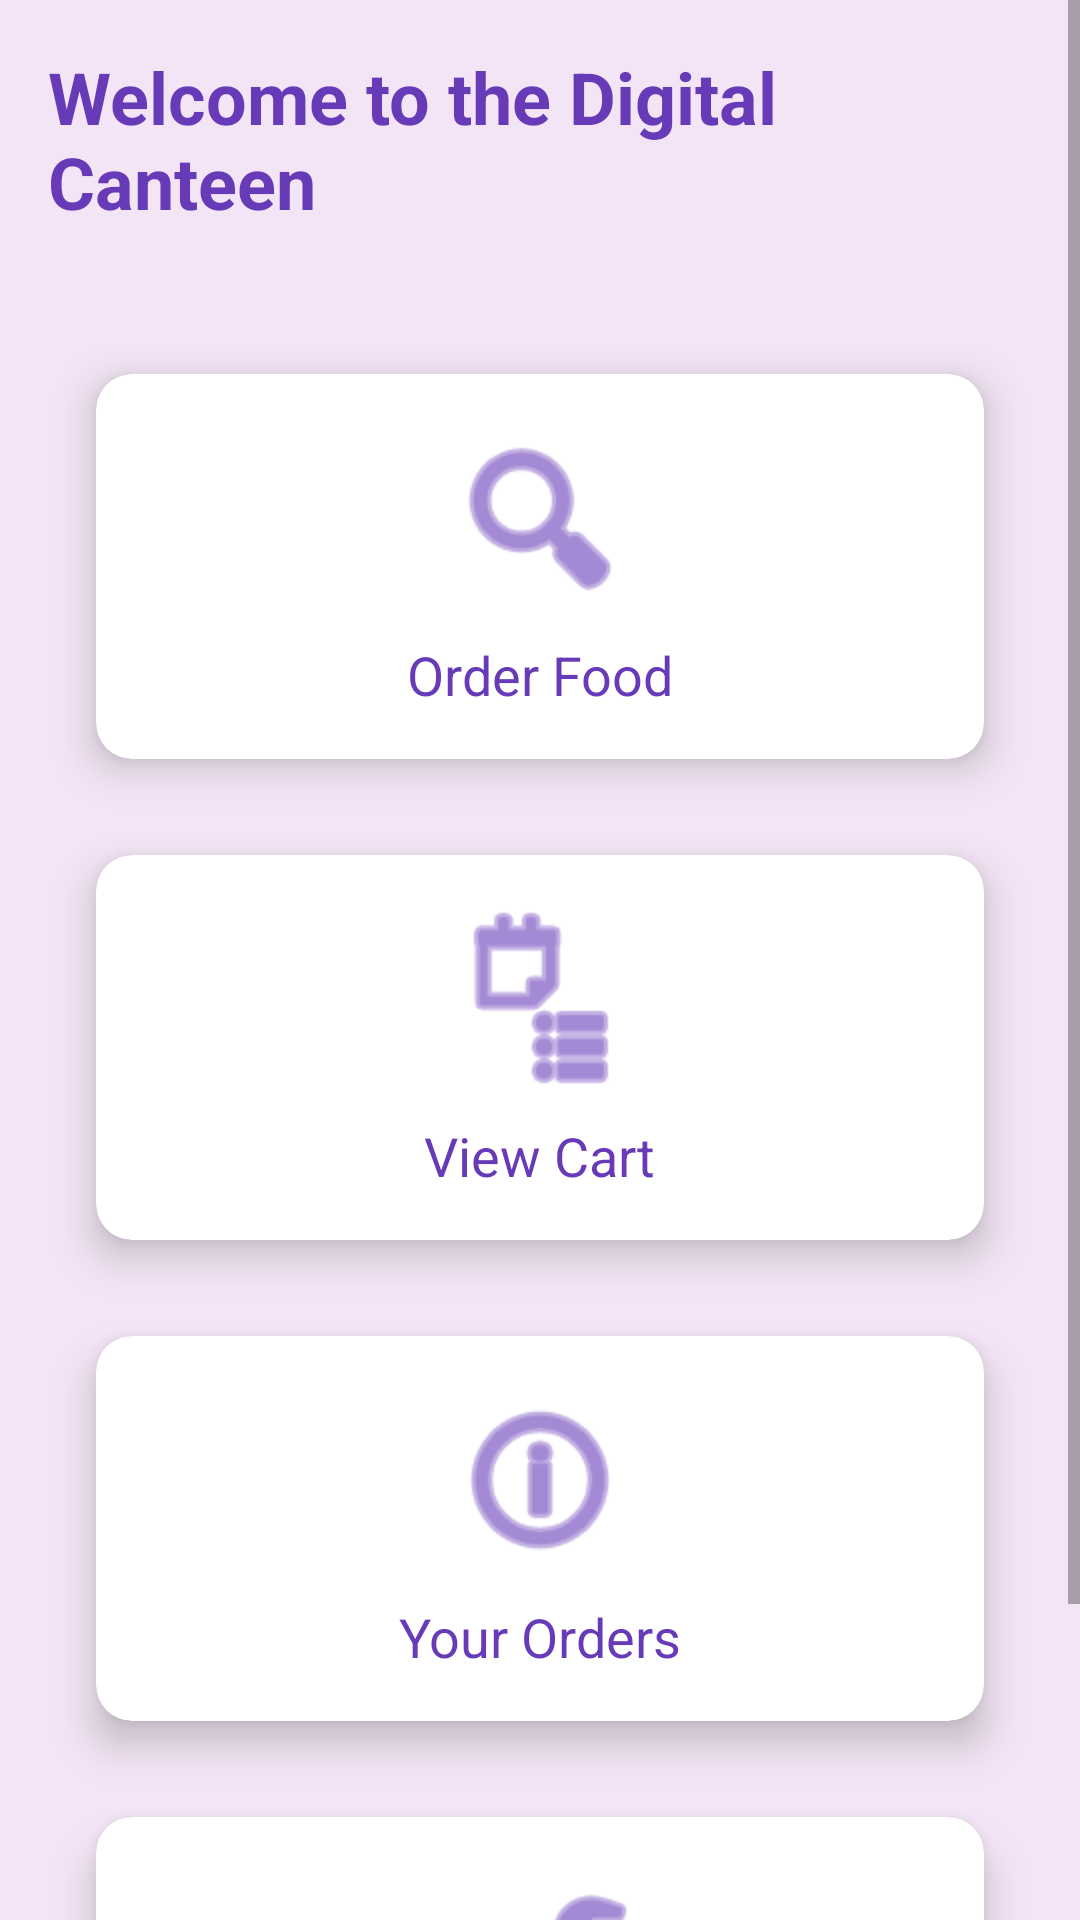

Icon bounding boxes for this 1080*1920 phone screenshot, format (x1, y1, x2, y2):
agenda: (474, 913, 608, 1083)
info details: (471, 1411, 609, 1549)
search: (469, 448, 611, 590)
